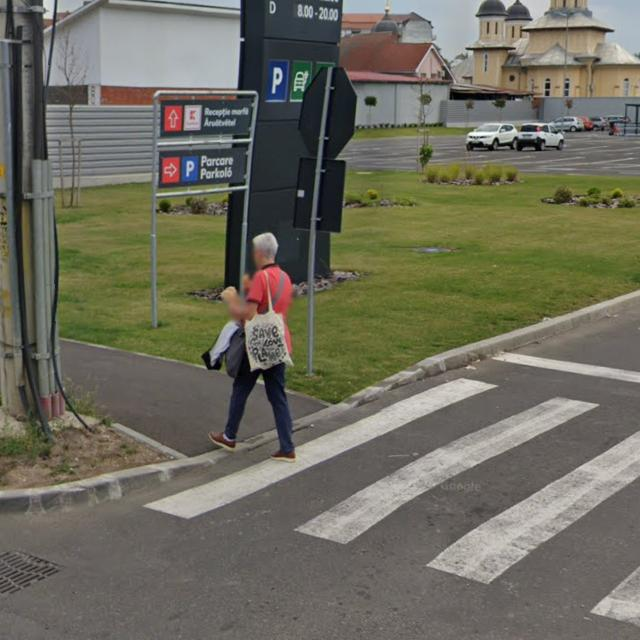info_parking: (264, 59, 289, 103), (181, 156, 199, 182)
